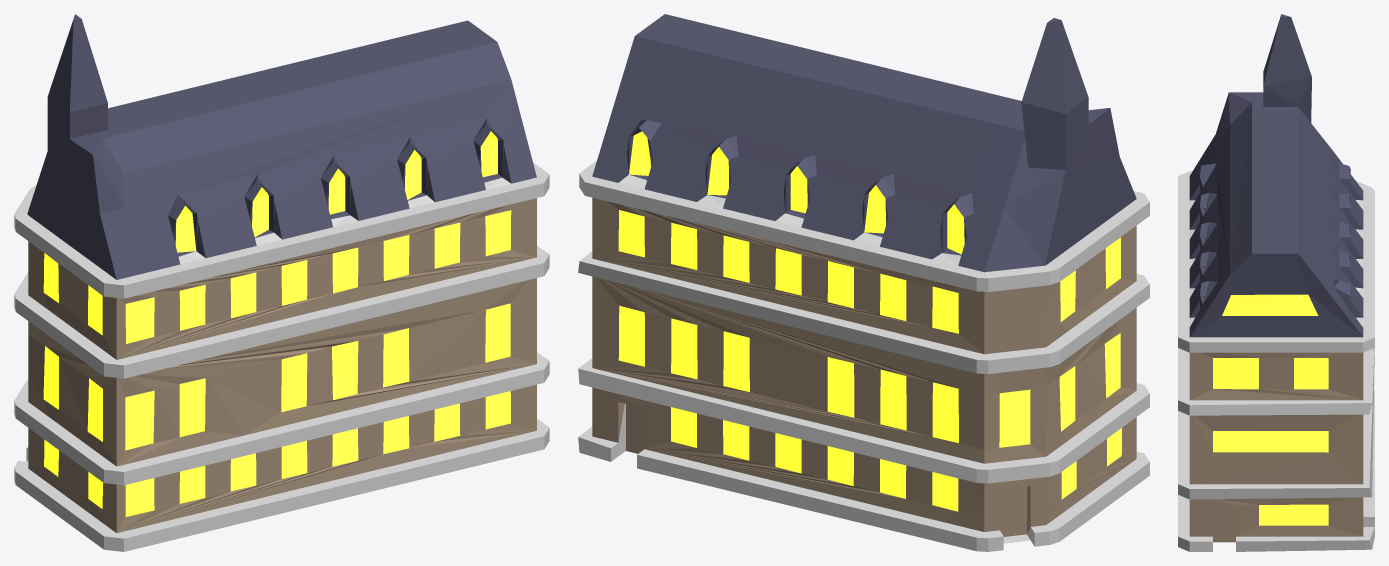
File: HouseBlue1_LOD2.fbx
3 renders of one model, left to right at view 1: azimuth 30°, elevation 25°; view 2: azimuth 150°, elevation 25°; view 3: azimuth 270°, elevation 25°, orthographic. The views are drawn at different scales.
Visible parts, largest first — view 1: Cube; view 2: Cube; view 3: Cube.
Part boxes in pixels (x1,y1,x2,y2): Cube: (14,14,549,551); Cube: (578,14,1149,551); Cube: (1178,14,1374,551).
Bounding box in the file's own units: 3500 × 3600 × 1700.
